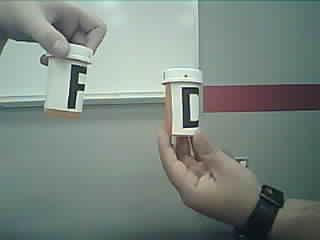Bottle D: (158, 64, 212, 145)
Bottle F: (43, 37, 98, 125)
